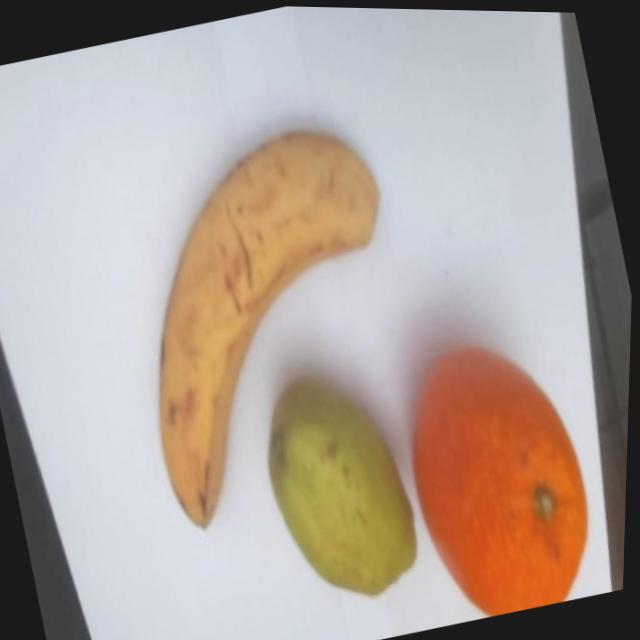Banana: (98, 108, 448, 538)
Orange: (385, 321, 615, 626)
